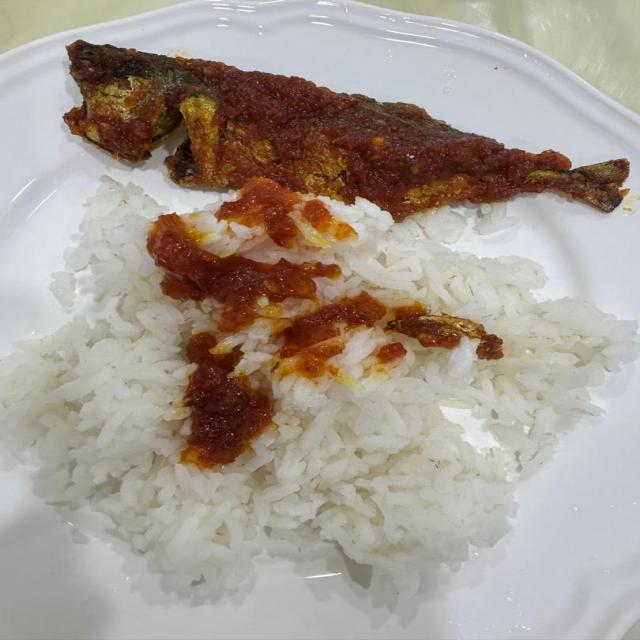Fish: (68, 43, 627, 223)
Rice: (3, 182, 635, 619)
